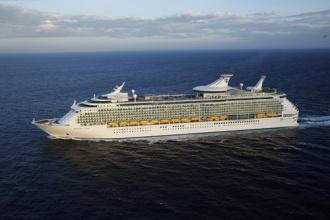youlun: (30, 75, 301, 140)
